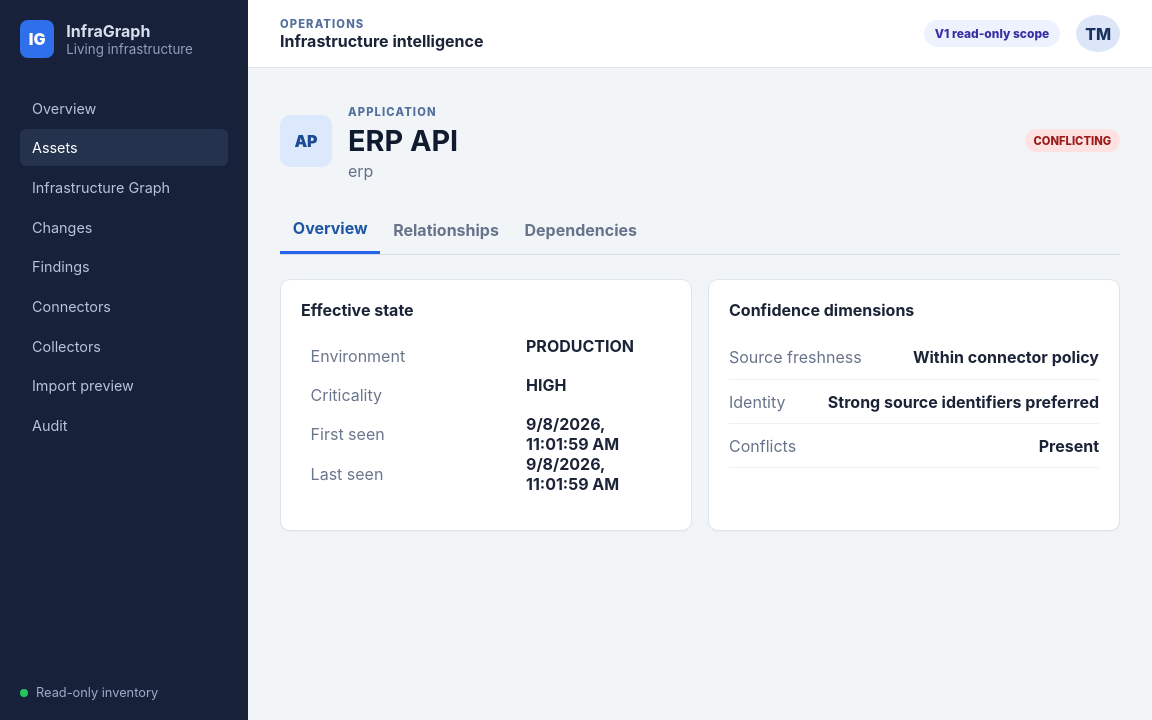
Test case: asset 360 exposes only implemented read-only views
Expected: the heading "ERP API" is shown, x1=348 y1=123 x2=458 y2=158
Click the tab "Dependencies" at [581, 230], box x1=512 y1=205 x2=650 y2=254
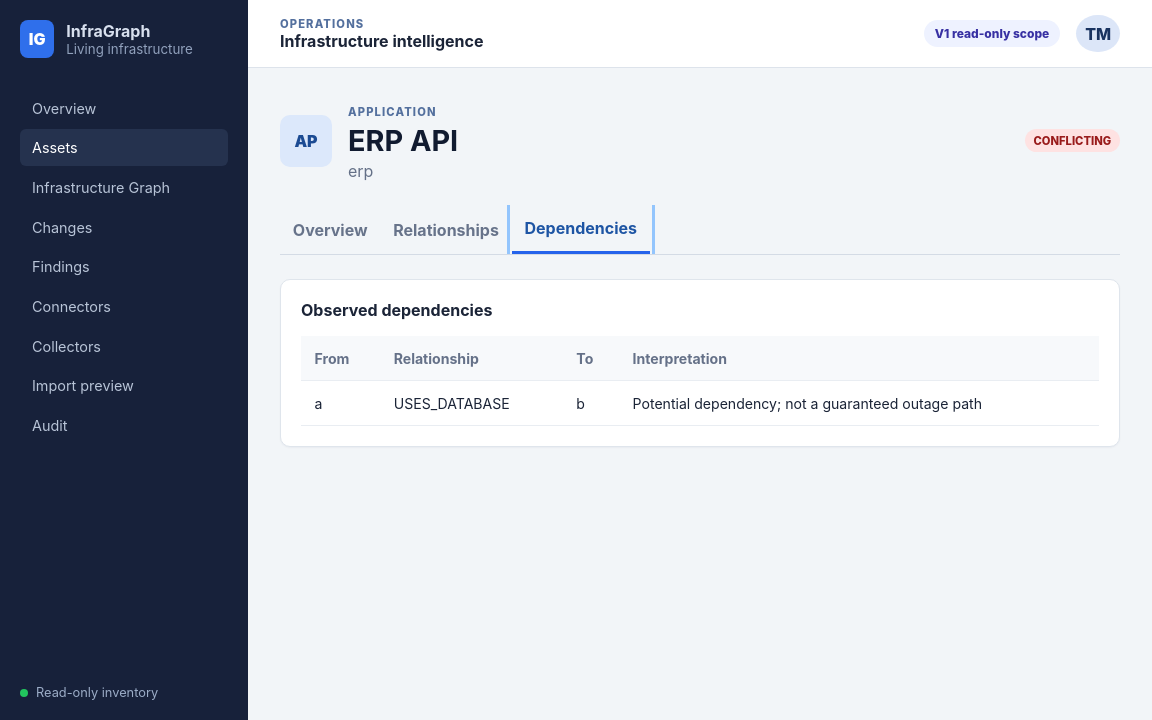
Expected: the text "USES_DATABASE" is shown, x1=380 y1=381 x2=563 y2=426
